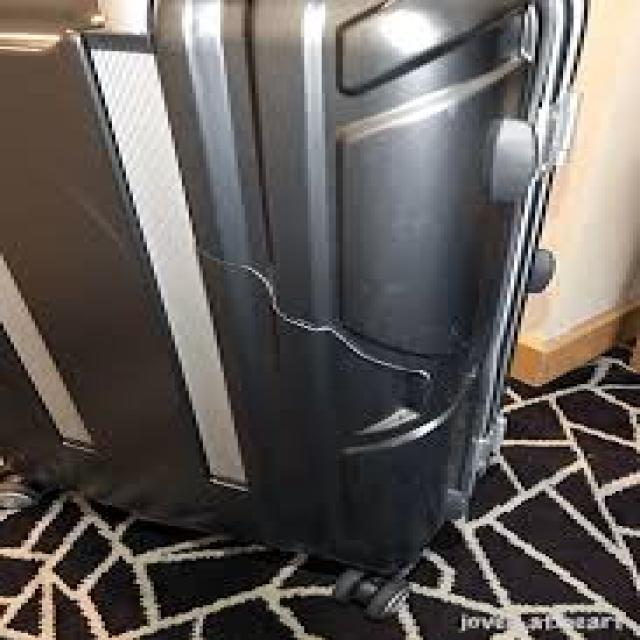Damage-bag: (201, 253, 431, 379)
